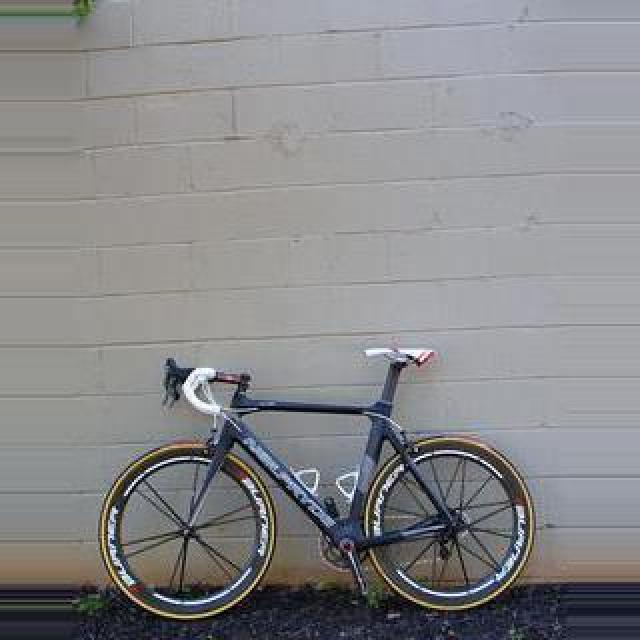Person: (99, 351, 533, 621)
